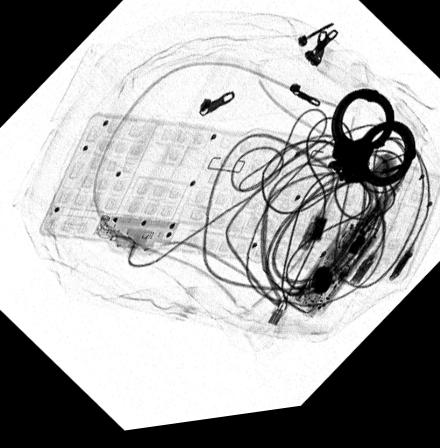HandCuffs: (328, 98, 417, 197)
